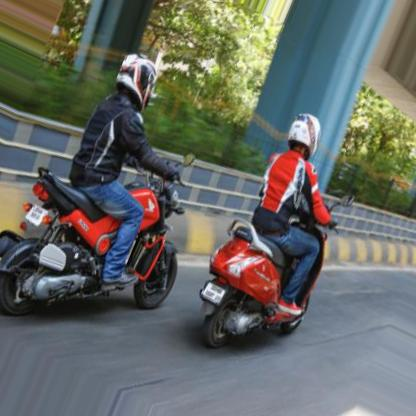with helmet: (116, 52, 158, 115), (288, 111, 322, 166)
